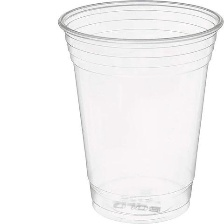glass: (56, 0, 224, 224)
